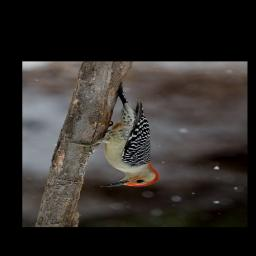Woodpecker: (67, 83, 159, 188)
